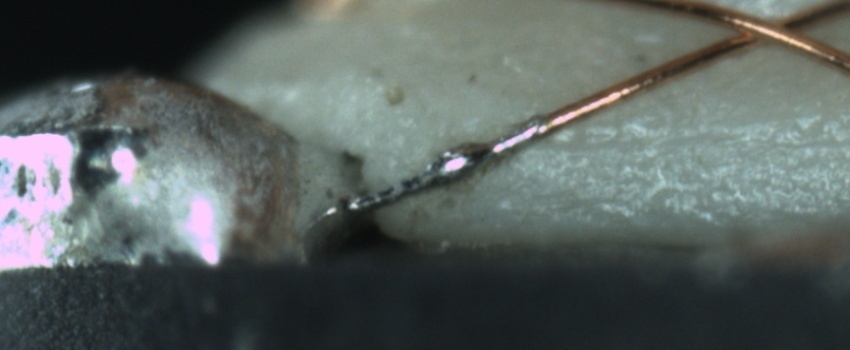CL: (711, 5, 825, 51)
DL: (512, 111, 849, 175)
TB: (427, 137, 486, 187)
TS: (350, 118, 550, 214)
TTCW: (345, 95, 597, 216)
